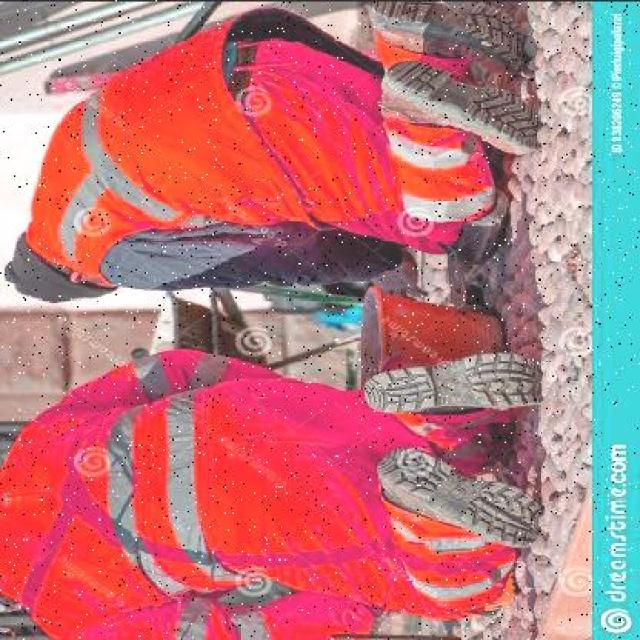shoes: (380, 443, 546, 545), (361, 342, 547, 418), (380, 65, 546, 148), (369, 3, 543, 55)
